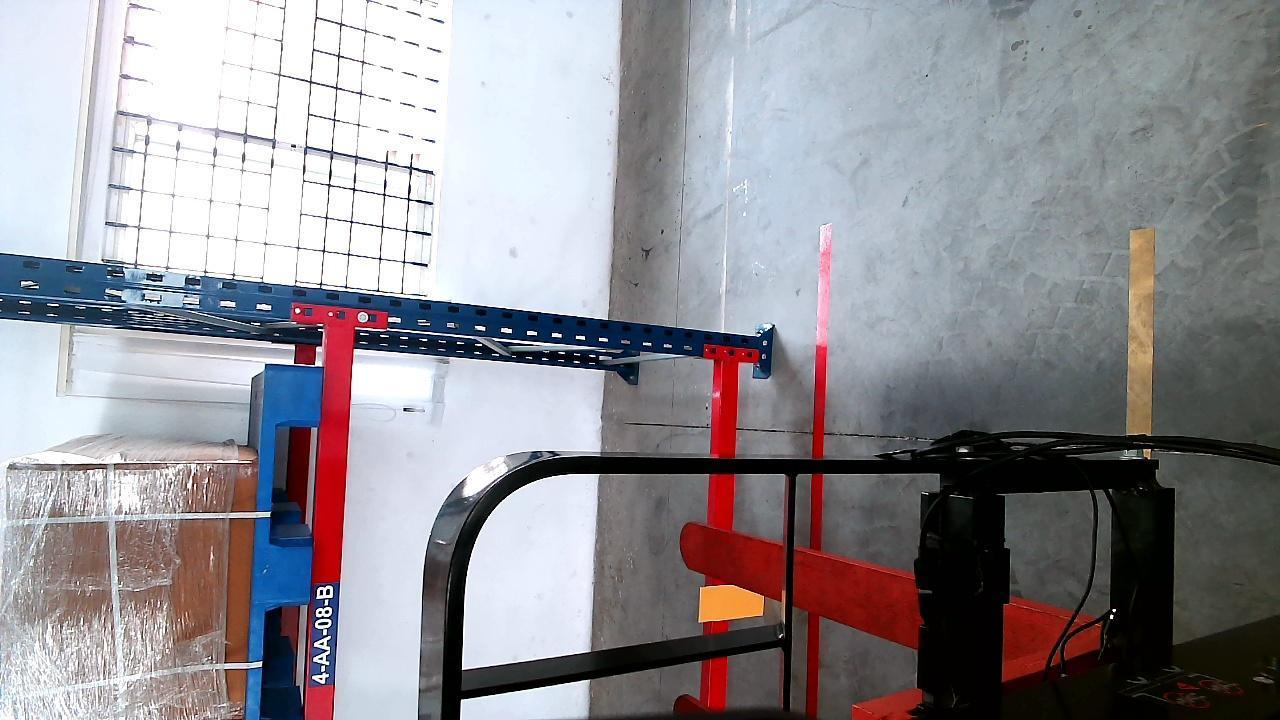h_rack: (307, 328, 353, 720), (705, 364, 740, 711)
orange_strip: (699, 582, 770, 621)
red_line: (809, 226, 833, 720)
small_pallet: (245, 366, 320, 720)
yellow_line: (1128, 223, 1153, 442)
